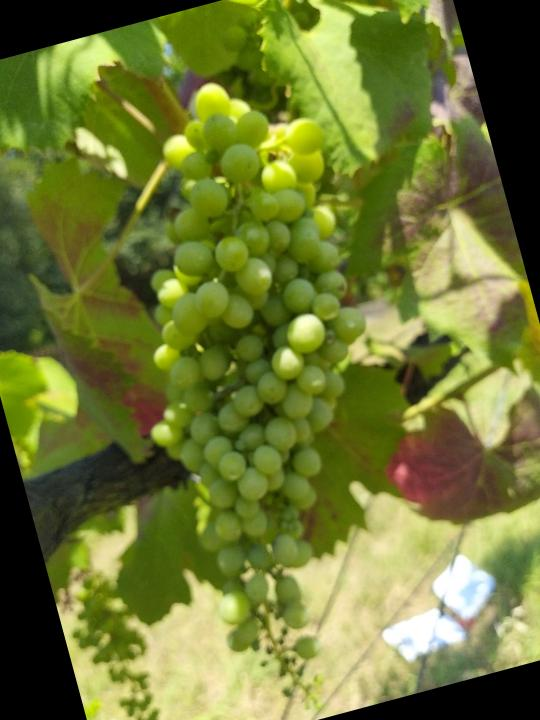grape: (65, 51, 475, 720)
